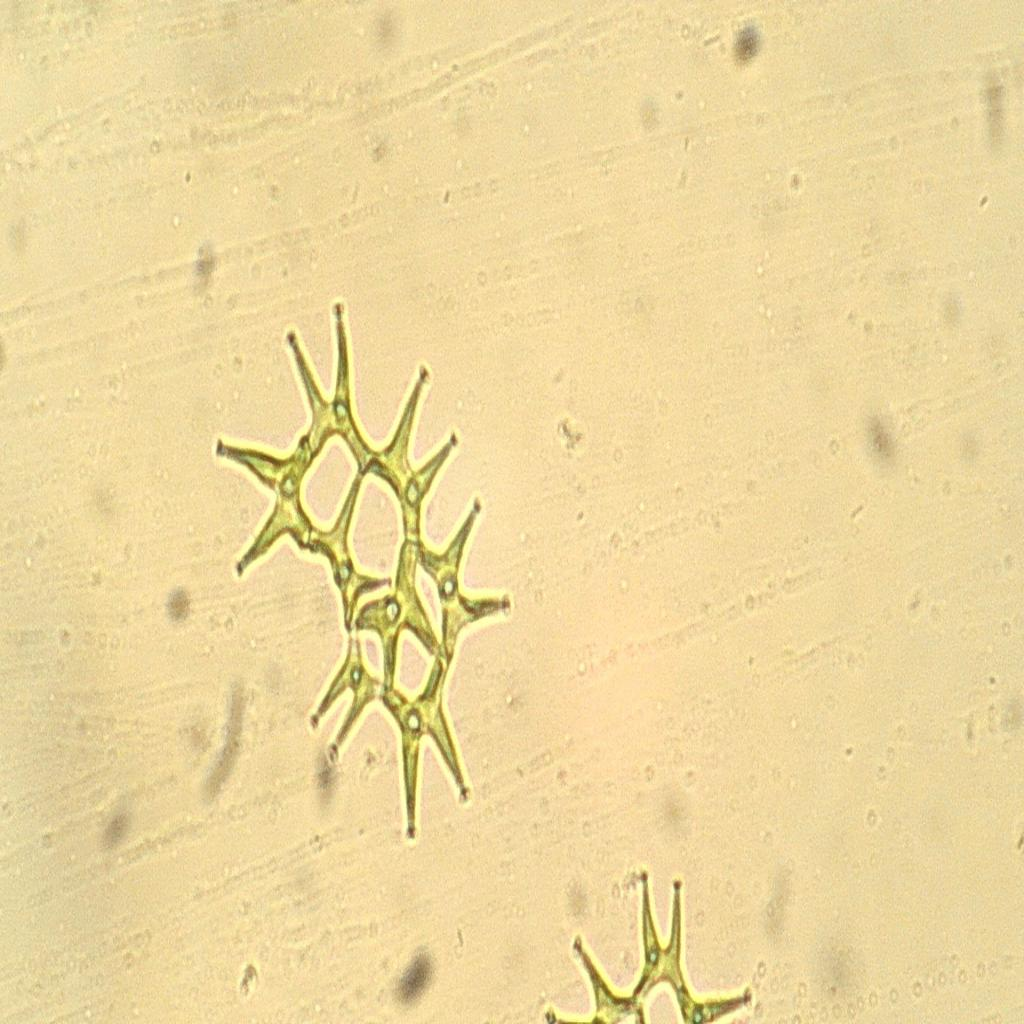Pediastrum_CFI: (206, 294, 517, 857)
